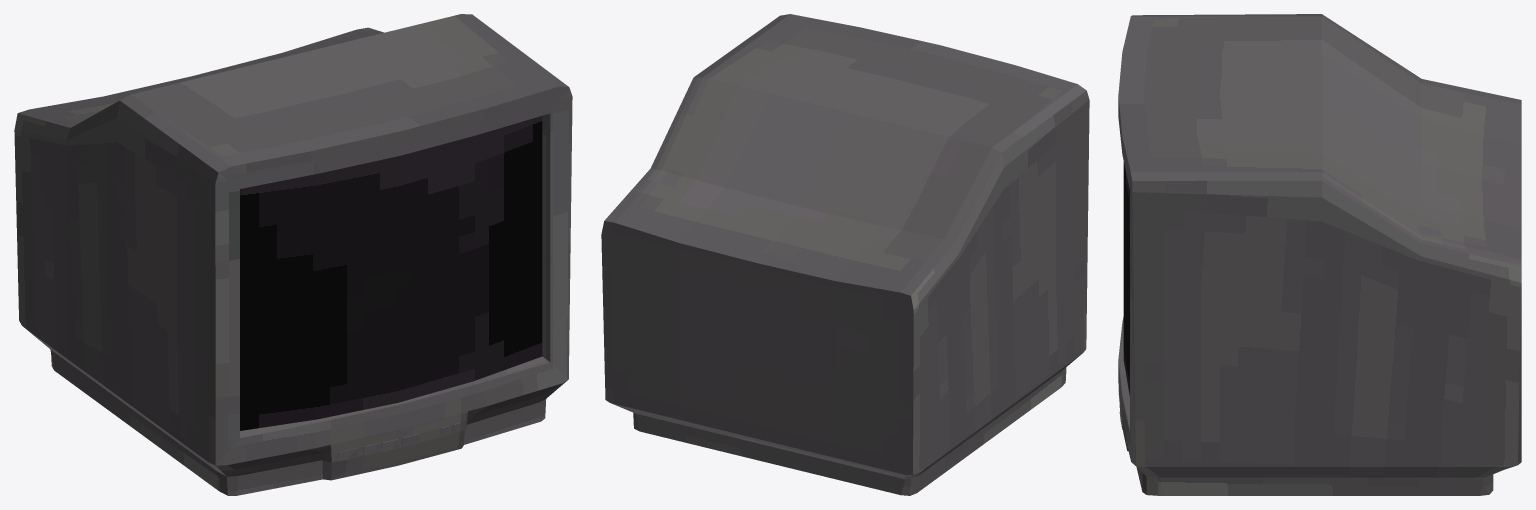
3 views of the same model, side by side, from view 1: azimuth 30°, elevation 25°; view 2: azimuth 150°, elevation 25°; view 3: azimuth 270°, elevation 25° (orthographic). The views are drawn at different scales.
Parts seen in each view (by area): view 1: Cube; view 2: Cube; view 3: Cube.
Part boxes in pixels (left/top/right/bottom): Cube: left=14, top=14, right=572, bottom=495; Cube: left=601, top=14, right=1089, bottom=495; Cube: left=1118, top=14, right=1521, bottom=495.
Size of the model in its own units: 349 by 314 by 352.
Materials: 1 (1 with a texture image).
